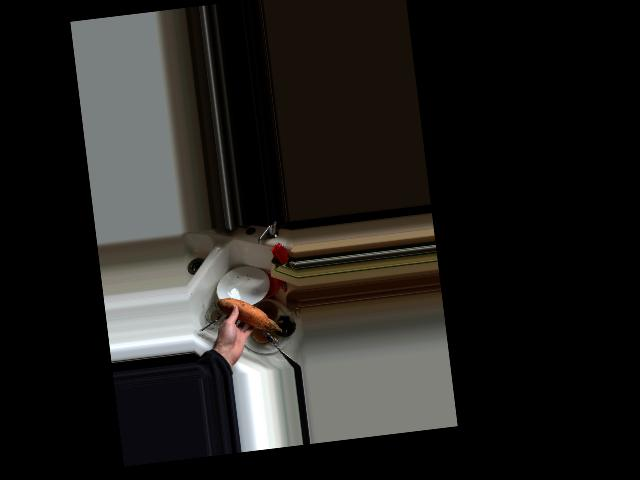sweet_potato: (215, 290, 280, 341)
